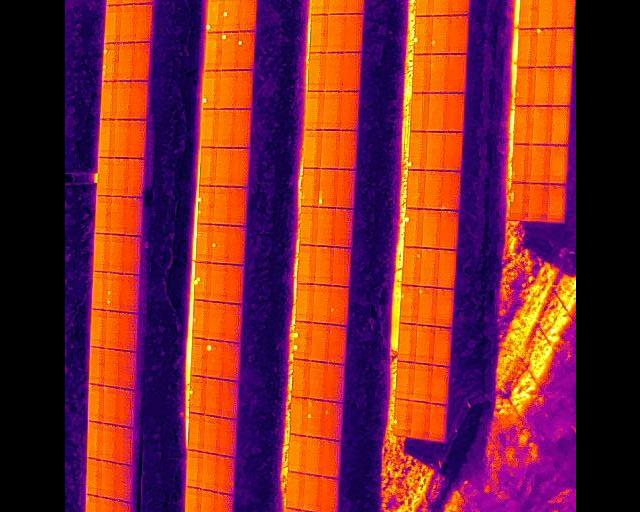Cell: (535, 29, 555, 67), (407, 131, 427, 169), (328, 287, 347, 324), (201, 71, 219, 109), (236, 32, 254, 70), (399, 286, 417, 324), (414, 17, 432, 55), (432, 17, 450, 54), (404, 208, 421, 247), (416, 286, 433, 325), (322, 403, 340, 439), (403, 248, 421, 284), (211, 225, 228, 263), (220, 33, 237, 71), (318, 169, 335, 207), (206, 341, 223, 377), (189, 377, 206, 413), (394, 399, 410, 436), (192, 301, 208, 337), (206, 0, 223, 32), (223, 0, 240, 32), (416, 0, 433, 16)
Cell-Multi: (101, 43, 118, 81), (294, 322, 311, 359), (306, 401, 323, 438), (198, 187, 214, 224), (107, 274, 123, 310), (194, 263, 210, 299)
No-Anomaly: (409, 93, 429, 132), (442, 133, 462, 171), (530, 145, 549, 184), (534, 68, 553, 107), (444, 93, 463, 132), (411, 54, 430, 93), (327, 326, 346, 364), (532, 107, 551, 145), (103, 6, 122, 44), (546, 185, 565, 223), (340, 53, 359, 91), (437, 211, 456, 249), (517, 29, 536, 67), (513, 106, 532, 144), (429, 366, 448, 403), (203, 32, 221, 71), (548, 146, 566, 185), (553, 67, 571, 106), (333, 208, 351, 247), (330, 247, 348, 286), (430, 54, 448, 93), (516, 67, 534, 106), (224, 304, 242, 342), (555, 29, 573, 67), (550, 107, 568, 145), (132, 42, 150, 80), (119, 313, 137, 351), (130, 81, 148, 119), (126, 159, 144, 197), (325, 365, 344, 401), (227, 226, 245, 264), (200, 110, 218, 148), (447, 54, 465, 92), (199, 147, 217, 185), (335, 170, 353, 208), (409, 402, 427, 440), (91, 234, 109, 272), (415, 326, 433, 364), (427, 405, 445, 443), (432, 328, 450, 366), (434, 288, 452, 326), (436, 250, 454, 288), (94, 196, 112, 234), (449, 16, 467, 54), (511, 145, 529, 183), (528, 185, 546, 222), (231, 149, 249, 186), (229, 189, 247, 226), (225, 265, 243, 302), (116, 42, 133, 81), (219, 70, 236, 109), (125, 236, 142, 275), (235, 70, 252, 109), (419, 248, 436, 287), (423, 170, 440, 209), (440, 171, 457, 210), (97, 119, 114, 158), (220, 382, 238, 418), (218, 419, 236, 455), (296, 285, 314, 321), (322, 441, 340, 477), (215, 148, 232, 186), (104, 312, 121, 350), (110, 197, 127, 235), (134, 4, 151, 42), (119, 4, 136, 42), (119, 351, 136, 389), (128, 120, 145, 158), (315, 247, 332, 285), (309, 15, 326, 53), (320, 130, 337, 168), (343, 15, 360, 53), (340, 92, 357, 130), (337, 131, 354, 169), (406, 170, 423, 208), (413, 364, 430, 402), (426, 132, 443, 170), (428, 93, 445, 131), (99, 82, 116, 120), (421, 208, 437, 248), (287, 437, 305, 472), (285, 474, 303, 509), (305, 439, 323, 474), (184, 452, 202, 487), (123, 275, 140, 312), (289, 398, 306, 435), (398, 324, 415, 361), (85, 423, 102, 460), (85, 459, 102, 496), (87, 385, 104, 422), (96, 158, 113, 195), (115, 81, 131, 120), (115, 463, 131, 502), (233, 109, 249, 148), (298, 245, 314, 284), (222, 343, 239, 379), (293, 361, 310, 397), (88, 348, 105, 384), (100, 463, 117, 499), (218, 109, 234, 147), (111, 158, 127, 196), (113, 120, 129, 158), (126, 197, 142, 235), (316, 208, 332, 246), (299, 207, 315, 245), (308, 54, 324, 92), (311, 324, 327, 362), (323, 92, 339, 130), (324, 53, 340, 91), (326, 15, 342, 53), (196, 224, 212, 262), (89, 310, 105, 348), (109, 234, 124, 274), (117, 391, 134, 426), (203, 417, 220, 452), (200, 455, 217, 490), (204, 381, 221, 416), (103, 388, 120, 423), (217, 458, 234, 493), (319, 479, 337, 512), (208, 303, 224, 340), (303, 131, 319, 168), (306, 92, 322, 129), (313, 286, 329, 323), (308, 362, 324, 399), (396, 362, 412, 399), (209, 265, 225, 301), (214, 188, 230, 224), (239, 0, 257, 32), (302, 476, 318, 512), (302, 169, 317, 207), (116, 428, 132, 463), (187, 414, 203, 449), (104, 350, 119, 387), (191, 339, 206, 376), (90, 272, 105, 309), (556, 0, 575, 29), (101, 425, 116, 461), (537, 0, 556, 28), (518, 0, 537, 28), (184, 489, 201, 512), (200, 492, 216, 512), (433, 0, 451, 17), (215, 495, 232, 512), (451, 0, 469, 15), (328, 0, 345, 14), (344, 0, 361, 14), (84, 497, 99, 512), (311, 0, 327, 14), (98, 499, 113, 512), (114, 503, 132, 512)
Unclassified: (509, 184, 528, 221)
